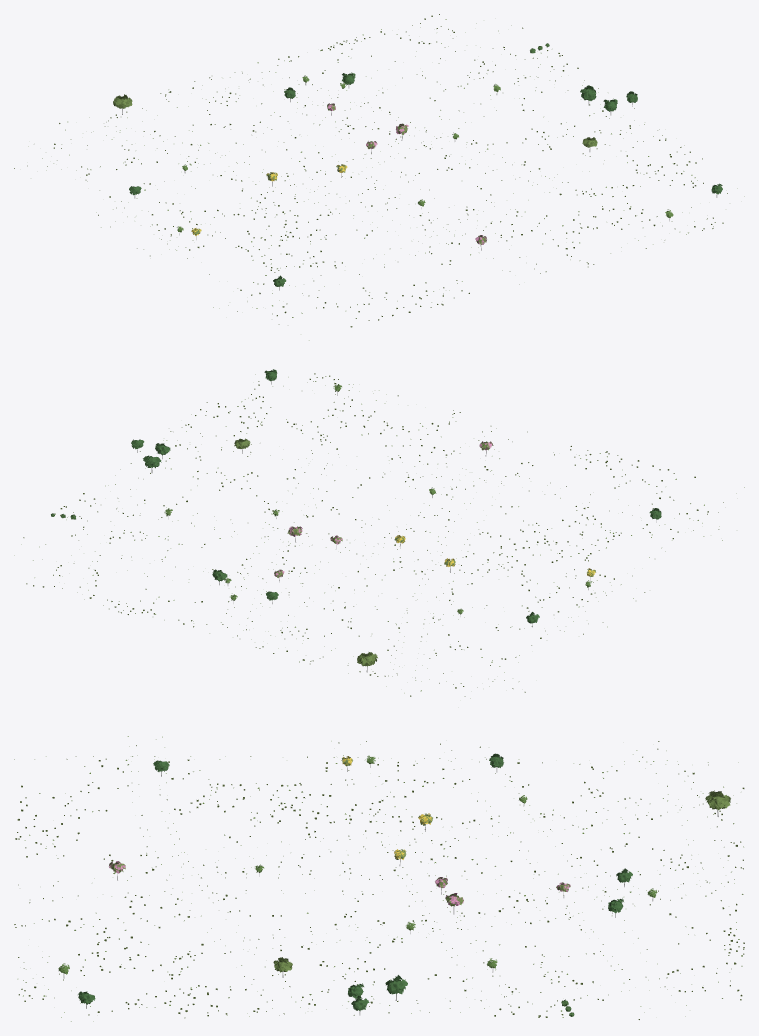
The model's file is Vegetation.fbx.
The picture shows the model from 3 angles, top to bottom: view 1: azimuth 30°, elevation 25°; view 2: azimuth 150°, elevation 25°; view 3: azimuth 270°, elevation 25°; orthographic projection. The views are drawn at different scales.
Parts seen in each view (by area): view 1: EXPORT_OT_Vegetation_SA_M01_02_S01_01; view 2: EXPORT_OT_Vegetation_SA_M01_02_S01_01; view 3: EXPORT_OT_Vegetation_SA_M01_02_S01_01.
Boxes of the visible parts, x1,y1,x2,y2 form: EXPORT_OT_Vegetation_SA_M01_02_S01_01: (14, 14, 744, 340); EXPORT_OT_Vegetation_SA_M01_02_S01_01: (14, 369, 744, 698); EXPORT_OT_Vegetation_SA_M01_02_S01_01: (14, 736, 744, 1021).
Size of the model in its own units: 252 by 20.53 by 250.
